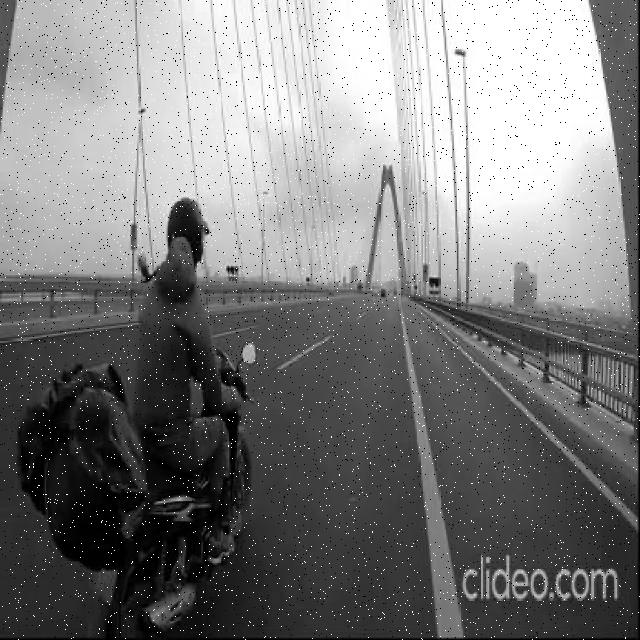Motorbike: (19, 198, 256, 640)
